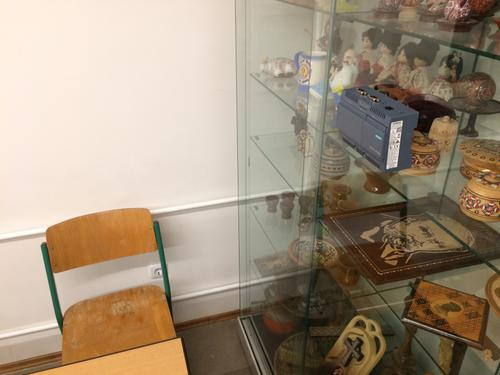iot2000: (335, 84, 419, 174)
